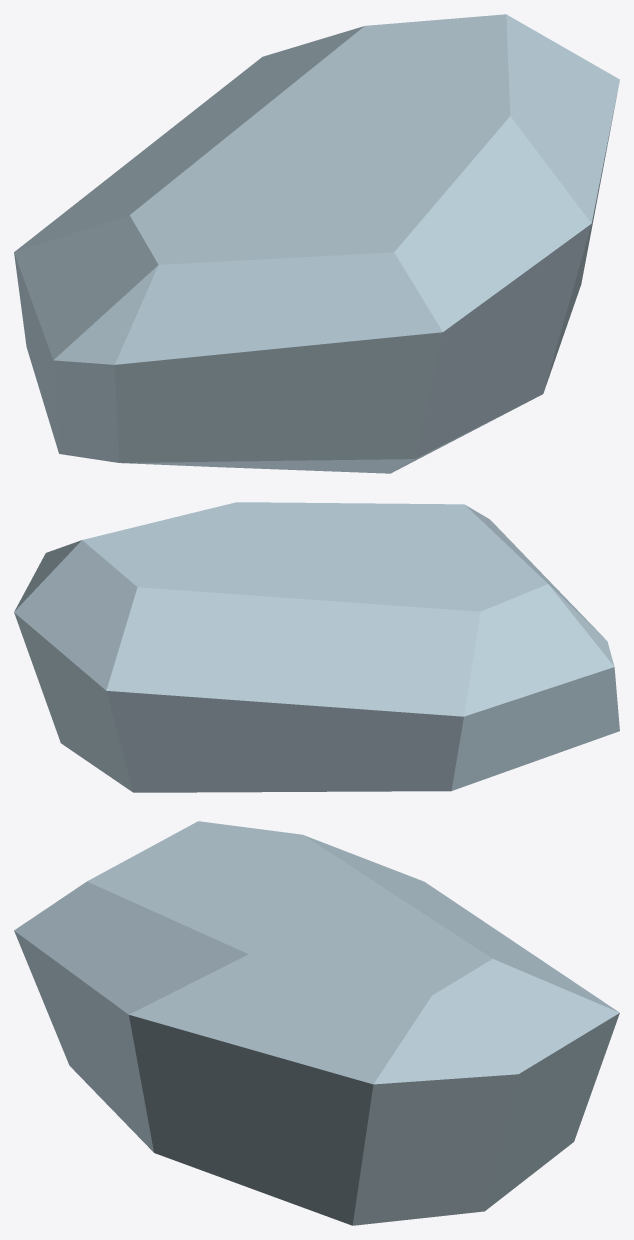
File: rock_02.fbx
3 views of the same model, one above another, from view 1: azimuth 30°, elevation 25°; view 2: azimuth 150°, elevation 25°; view 3: azimuth 270°, elevation 25° (orthographic). The views are drawn at different scales.
Parts seen in each view (by area): view 1: rock_02; view 2: rock_02; view 3: rock_02.
Part boxes in pixels (x1=…): rock_02: x1=14, y1=14, x2=619, y2=473; rock_02: x1=14, y1=502, x2=619, y2=792; rock_02: x1=14, y1=821, x2=619, y2=1225.
Bounding box in the file's own units: 6.3 × 2.52 × 5.68.
